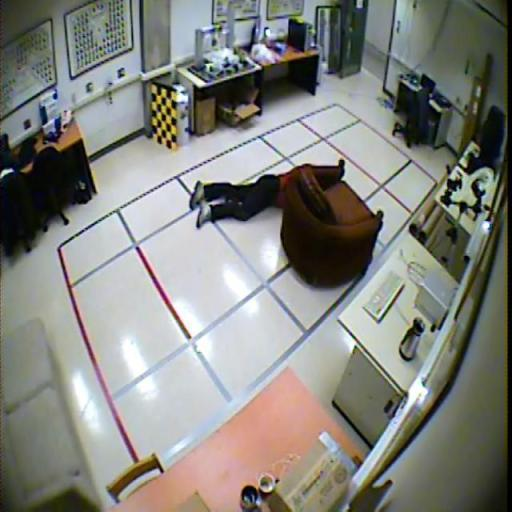Fall: (190, 173, 288, 230)
